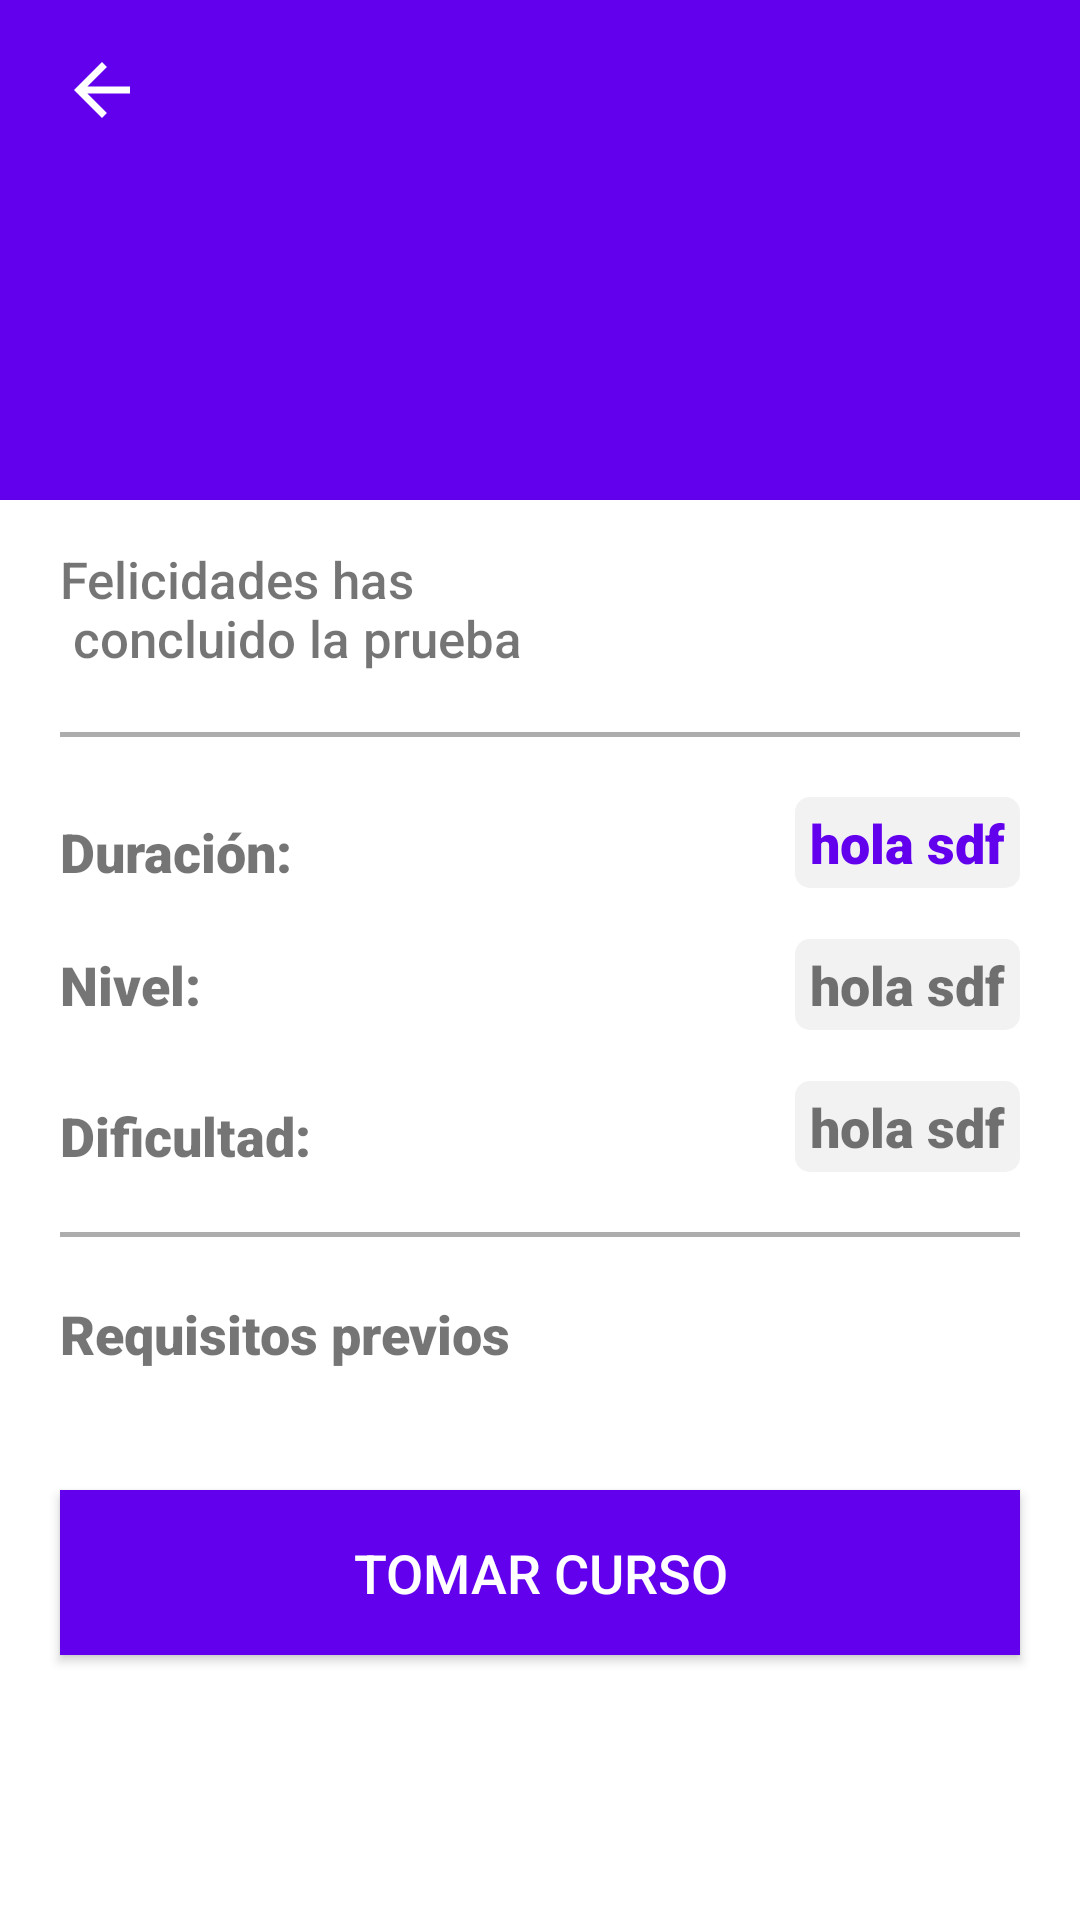

Named icons in this screenshot (1080*1920) and their centers, (x=x, y=y):
arrow back: (x=102, y=90)
